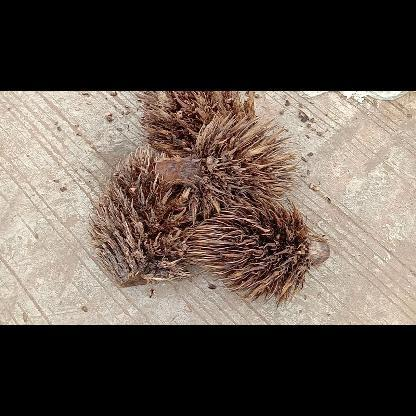Janjang kosong: (186, 195, 330, 306), (88, 143, 198, 287), (154, 110, 298, 220), (134, 91, 254, 157)
